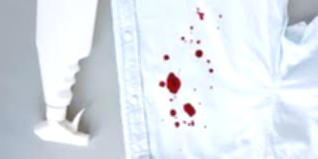blood: (179, 26, 201, 44), (166, 71, 181, 94), (183, 103, 197, 117), (174, 121, 195, 127), (197, 8, 205, 20), (196, 50, 203, 57), (163, 55, 170, 61), (170, 110, 176, 116), (209, 68, 215, 73), (205, 59, 212, 63)
